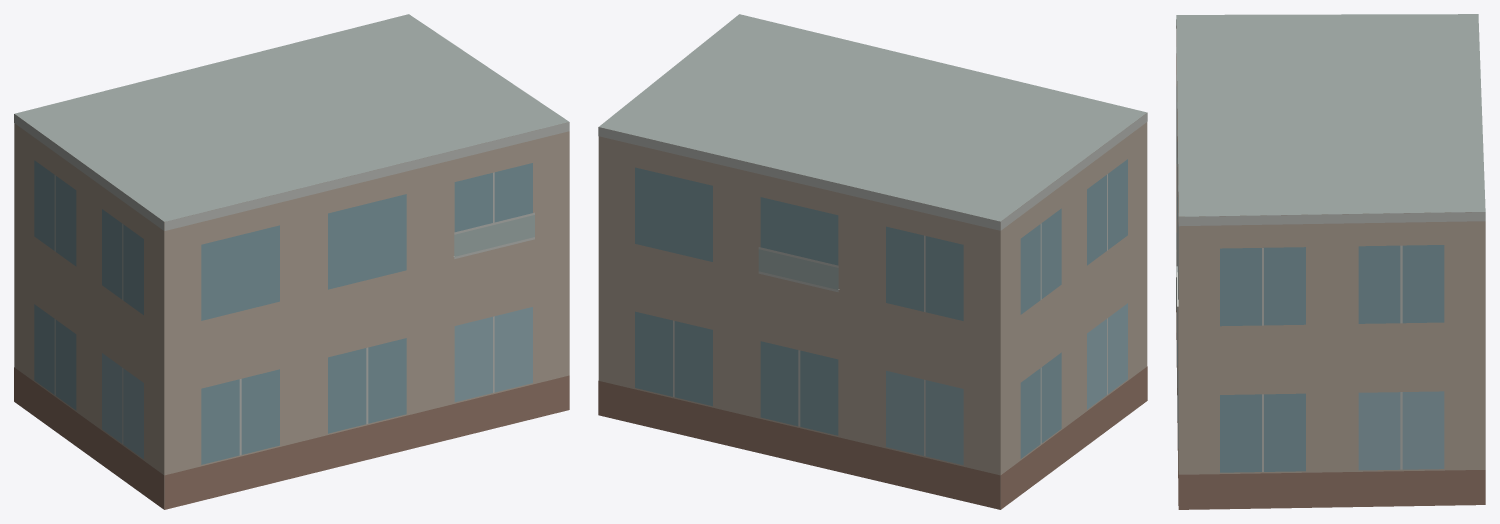
The model's file is survey-upis-32611495.glb.
The picture shows the model from 3 angles, left to right: view 1: azimuth 30°, elevation 25°; view 2: azimuth 150°, elevation 25°; view 3: azimuth 270°, elevation 25°; orthographic projection.
Parts seen in each view (by area): view 1: survey-upis-32611495.tmp; view 2: survey-upis-32611495.tmp; view 3: survey-upis-32611495.tmp.
Boxes of the visible parts, x1,y1,x2,y2 form: survey-upis-32611495.tmp: [14, 14, 569, 509]; survey-upis-32611495.tmp: [598, 14, 1147, 509]; survey-upis-32611495.tmp: [1176, 14, 1485, 509].
Bounding box in the file's own units: 11.29 × 7.6 × 7.28.
